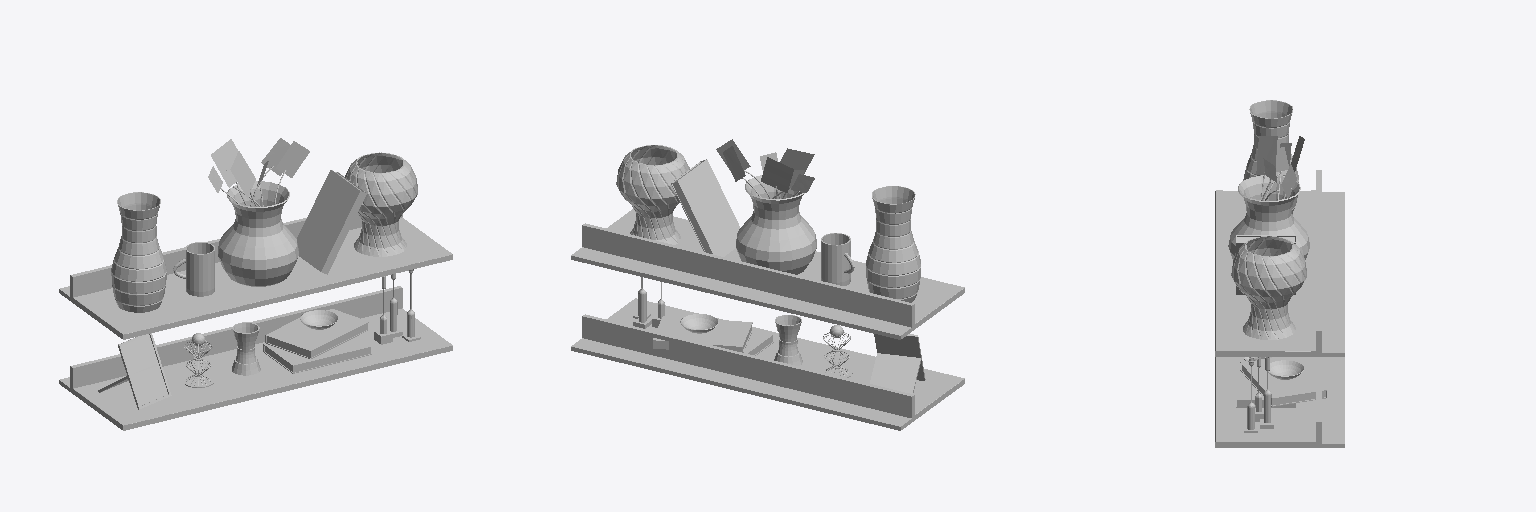
Rendered from decoration set.obj.
The picture shows the model from 3 angles: view 1: azimuth 30°, elevation 25°; view 2: azimuth 150°, elevation 25°; view 3: azimuth 270°, elevation 25°; orthographic projection.
Parts seen in each view (by area): view 1: lower_marble, upper_maeble, plant_vase, left_vase, right_vase, book3, image_, book2, book1, cup, accessories_1, accessories_2 (+1 smaller); view 2: lower_marble, upper_maeble, plant_vase, left_vase, right_vase, book3, image_, book2, cup, accessories_1, accessories_2, dish; view 3: upper_maeble, lower_marble, right_vase, plant_vase, book2, left_vase, book1, dish.
Boxes of the visible parts, x1=… form: lower_marble: x1=59, y1=286, x2=452, y2=430; upper_maeble: x1=59, y1=213, x2=452, y2=339; plant_vase: x1=208, y1=138, x2=309, y2=286; left_vase: x1=111, y1=192, x2=166, y2=312; right_vase: x1=345, y1=152, x2=417, y2=256; book3: x1=297, y1=170, x2=366, y2=274; image_: x1=98, y1=333, x2=171, y2=409; book2: x1=265, y1=309, x2=368, y2=358; book1: x1=263, y1=336, x2=371, y2=373; cup: x1=173, y1=242, x2=214, y2=296; accessories_1: x1=232, y1=322, x2=260, y2=375; accessories_2: x1=183, y1=333, x2=213, y2=387; lower_marble: x1=571, y1=298, x2=964, y2=430; upper_maeble: x1=571, y1=209, x2=964, y2=339; plant_vase: x1=716, y1=139, x2=816, y2=274; left_vase: x1=866, y1=186, x2=920, y2=302; right_vase: x1=616, y1=145, x2=689, y2=244; book3: x1=671, y1=159, x2=739, y2=256; image_: x1=870, y1=334, x2=925, y2=393; book2: x1=653, y1=316, x2=752, y2=352; cup: x1=821, y1=233, x2=854, y2=285; accessories_1: x1=774, y1=315, x2=802, y2=365; accessories_2: x1=821, y1=325, x2=852, y2=377; dish: x1=680, y1=314, x2=718, y2=333; upper_maeble: x1=1215, y1=170, x2=1344, y2=356; lower_marble: x1=1215, y1=357, x2=1344, y2=447; right_vase: x1=1231, y1=236, x2=1306, y2=339; plant_vase: x1=1228, y1=136, x2=1309, y2=259; book2: x1=1240, y1=357, x2=1326, y2=406; left_vase: x1=1243, y1=100, x2=1298, y2=213; book1: x1=1236, y1=361, x2=1295, y2=407; dish: x1=1268, y1=360, x2=1303, y2=379.
Bounding box in the file's own units: 0.8344 × 0.5381 × 0.2828.